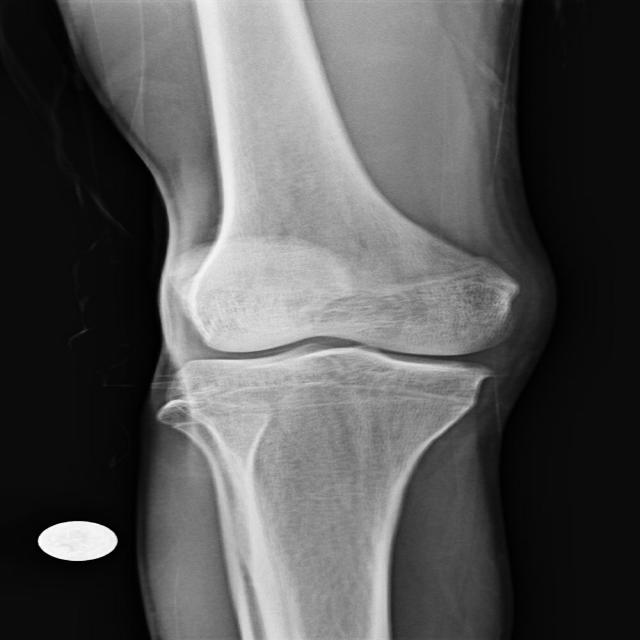normal: (173, 256, 529, 406)
